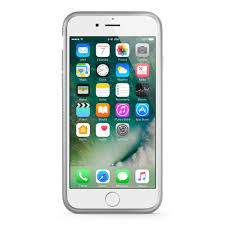iphone: (57, 5, 165, 215)
iphone8: (57, 3, 165, 213)
